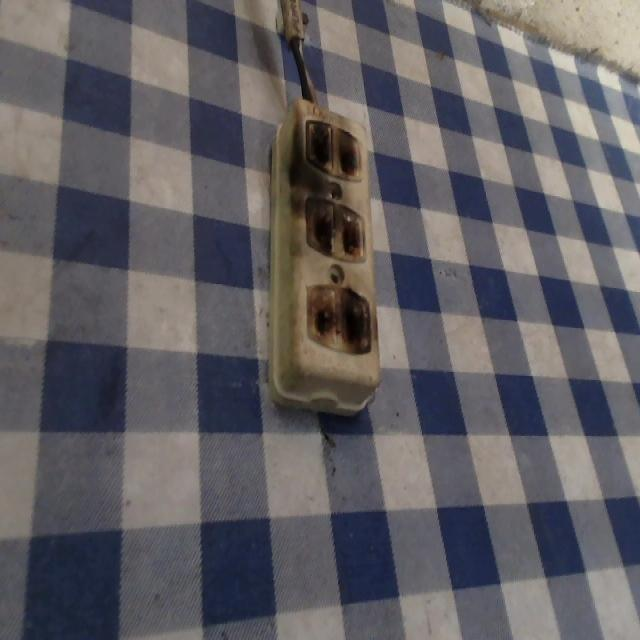-: (302, 277, 376, 360), (302, 192, 366, 265), (304, 113, 363, 180)
